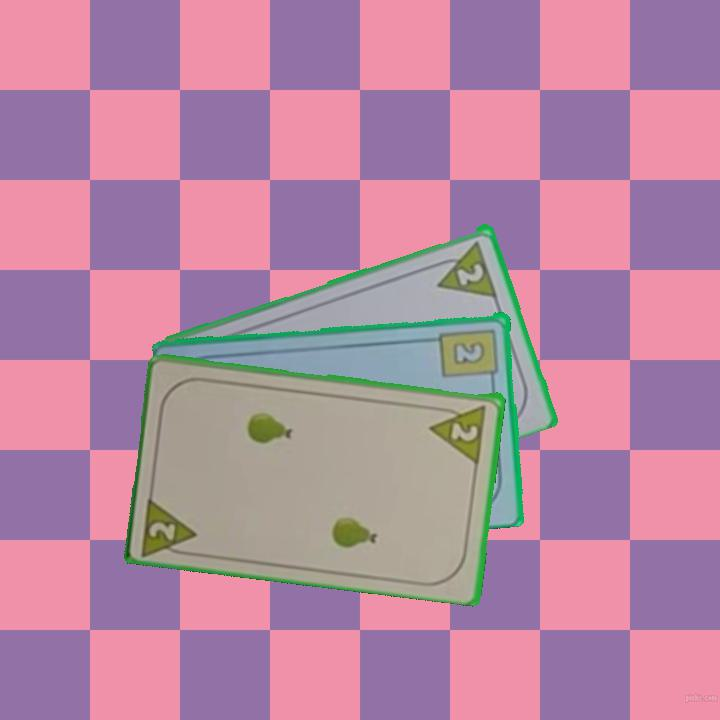2b: (437, 325, 501, 386)
2p: (427, 237, 500, 300), (138, 490, 201, 558), (447, 417, 482, 444)
